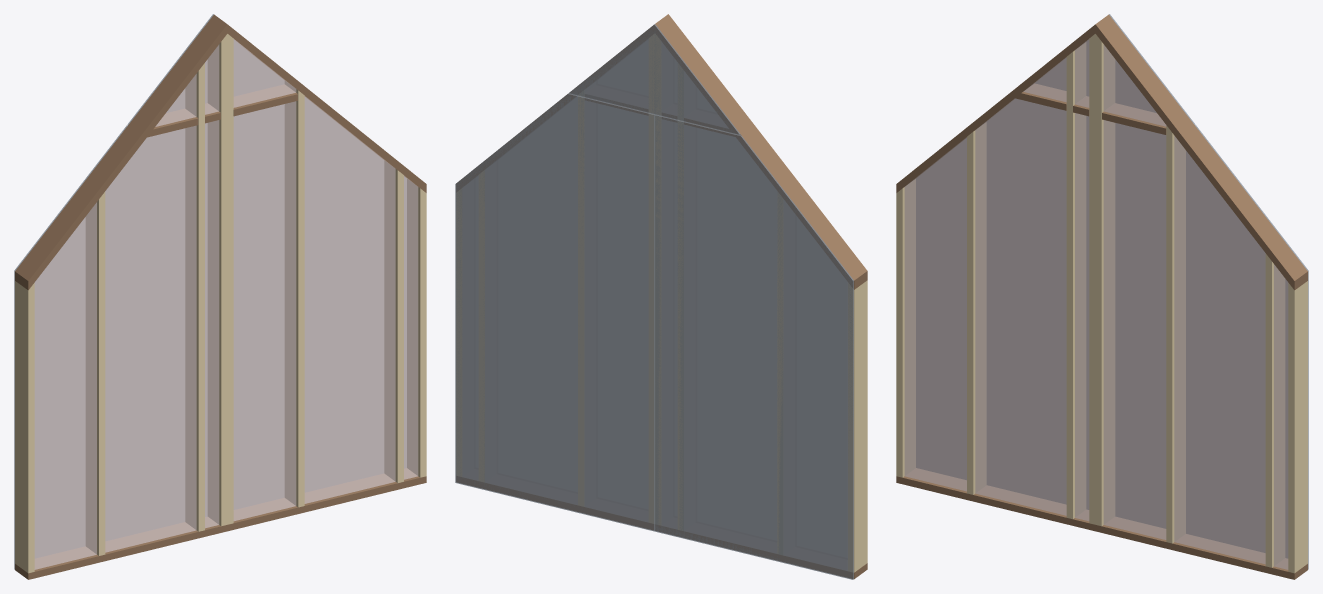
File: EX8_GBL.glb
3 renders of one model, left to right at view 1: azimuth 30°, elevation 25°; view 2: azimuth 150°, elevation 25°; view 3: azimuth 330°, elevation 25°, orthographic.
Visible parts, largest first — view 1: EX8 GBL; view 2: EX8 GBL; view 3: EX8 GBL.
Part boxes in pixels (x1=…): EX8 GBL: x1=14, y1=14, x2=426, y2=579; EX8 GBL: x1=455, y1=14, x2=867, y2=579; EX8 GBL: x1=896, y1=14, x2=1308, y2=579.
Bounding box in the file's own units: 2.4 × 2.92 × 0.149.
